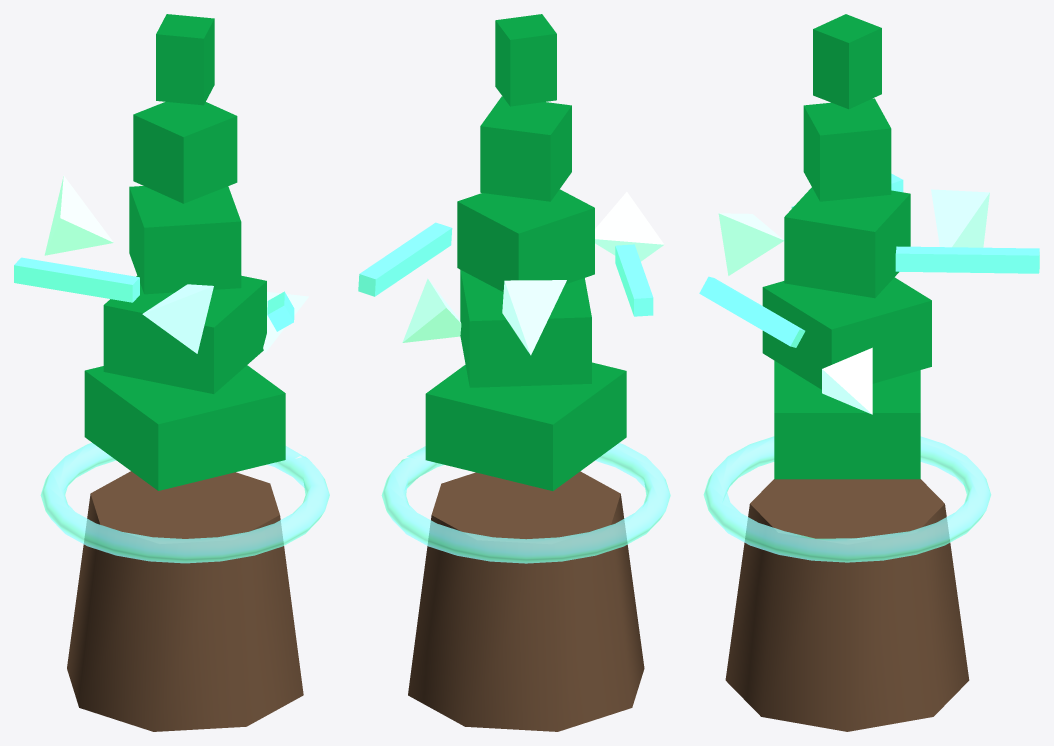
Rendered from growth-planter.low.glb.
The picture shows the model from 3 angles, left to right: view 1: azimuth 30°, elevation 25°; view 2: azimuth 150°, elevation 25°; view 3: azimuth 270°, elevation 25°; orthographic projection.
Visible parts, largest first — view 1: growth-planter-emissive, growth-planter-body, rim, spoke-0; view 2: growth-planter-emissive, growth-planter-body, spoke-0, rim; view 3: growth-planter-body, growth-planter-emissive, spoke-0, rim.
Part boxes in pixels (x1=…): growth-planter-emissive: x1=84, y1=14, x2=285, y2=490; growth-planter-body: x1=67, y1=471, x2=303, y2=731; rim: x1=40, y1=443, x2=329, y2=563; spoke-0: x1=14, y1=175, x2=308, y2=353; growth-planter-emissive: x1=425, y1=14, x2=626, y2=490; growth-planter-body: x1=408, y1=471, x2=644, y2=731; spoke-0: x1=358, y1=192, x2=664, y2=355; rim: x1=381, y1=443, x2=670, y2=563; growth-planter-body: x1=725, y1=479, x2=969, y2=731; growth-planter-emissive: x1=762, y1=14, x2=931, y2=479; spoke-0: x1=699, y1=173, x2=1039, y2=414; rim: x1=703, y1=436, x2=991, y2=562.
Size of the model in its own units: 1.29 by 2.95 by 1.4.
4 materials, 4 textured.
